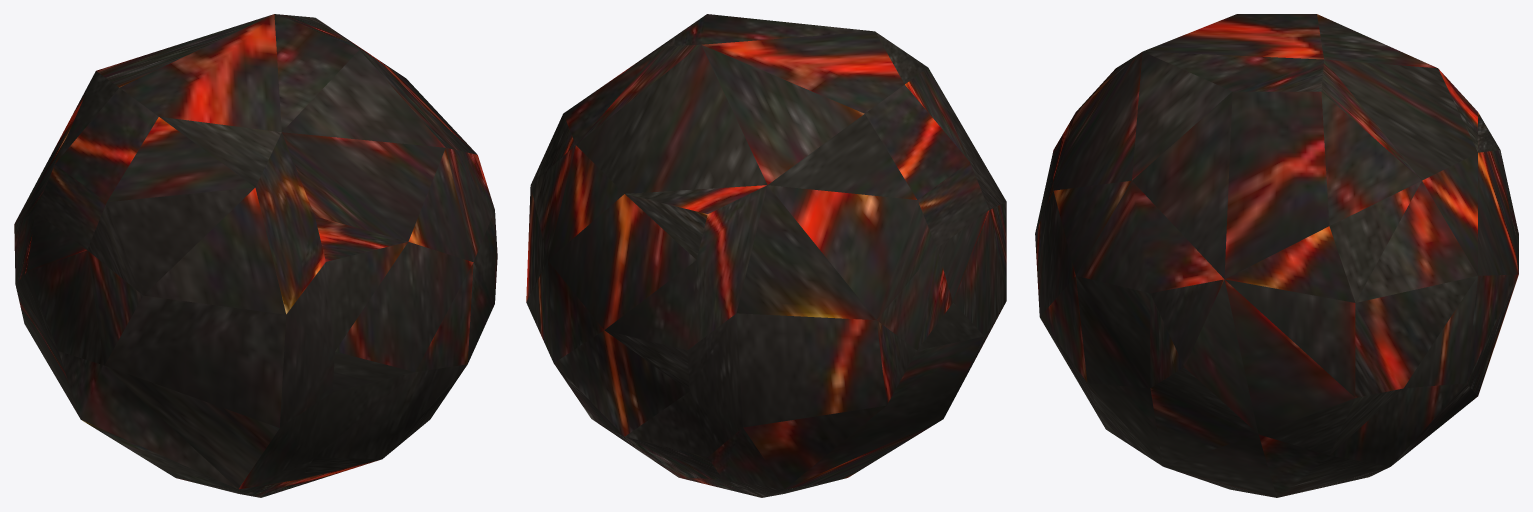
The model's file is asteroid.FBX.
3 views of the same model, side by side, from view 1: azimuth 30°, elevation 25°; view 2: azimuth 150°, elevation 25°; view 3: azimuth 270°, elevation 25° (orthographic).
Parts seen in each view (by area): view 1: Sphere001; view 2: Sphere001; view 3: Sphere001.
Boxes of the visible parts, box(x1,y1,x2,y2) form: Sphere001: box(14, 14, 497, 497); Sphere001: box(526, 14, 1006, 497); Sphere001: box(1035, 14, 1518, 497).
Size of the model in its own units: 367 by 371 by 378.
Materials: 1 (1 with a texture image).
